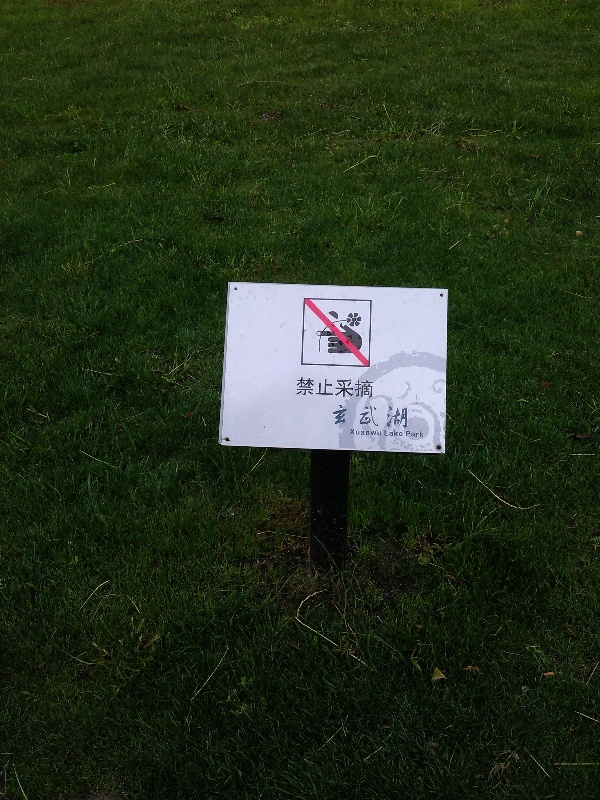text: (337, 404, 352, 430), (353, 404, 368, 430), (369, 404, 384, 430), (385, 404, 400, 430), (305, 377, 320, 400), (321, 377, 336, 400), (337, 377, 352, 400), (353, 377, 368, 400), (401, 404, 409, 430), (296, 377, 304, 400), (353, 428, 368, 437), (369, 428, 383, 437), (385, 430, 400, 438), (369, 377, 374, 400), (405, 430, 416, 438), (333, 404, 336, 430), (417, 430, 424, 438), (401, 430, 404, 438), (350, 428, 352, 437)
